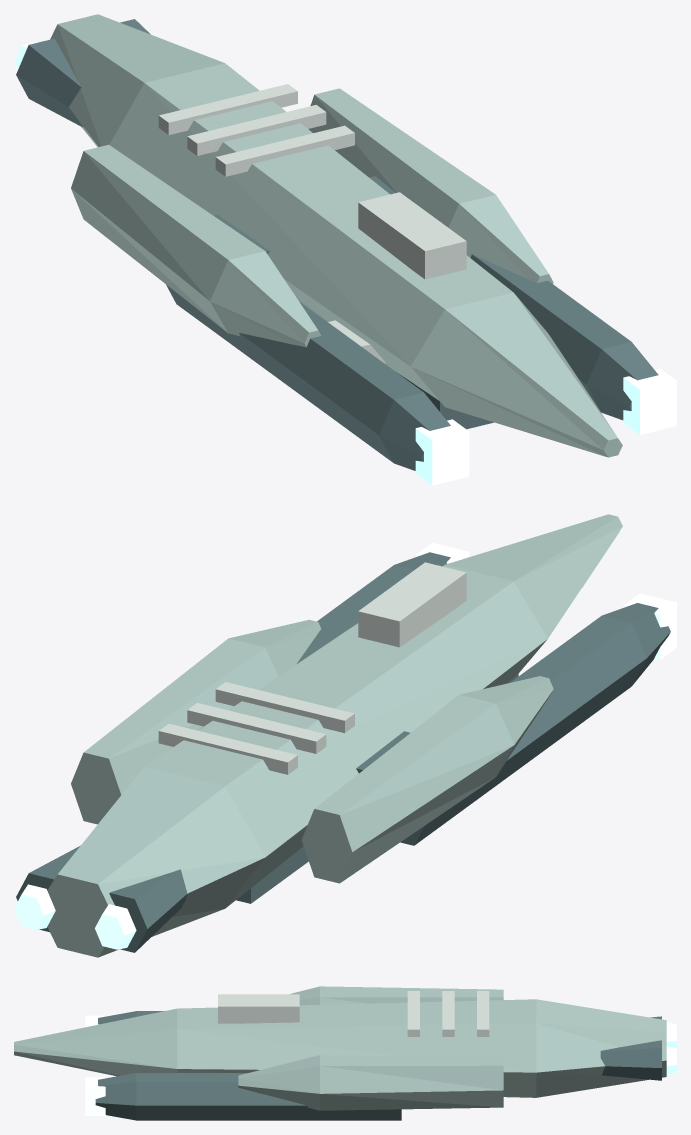
3 views of the same model, one above another, from view 1: azimuth 30°, elevation 25°; view 2: azimuth 150°, elevation 25°; view 3: azimuth 270°, elevation 25° (orthographic). The views are drawn at different scales.
Size of the model in its own units: 2.16 by 1.06 by 6.69.
